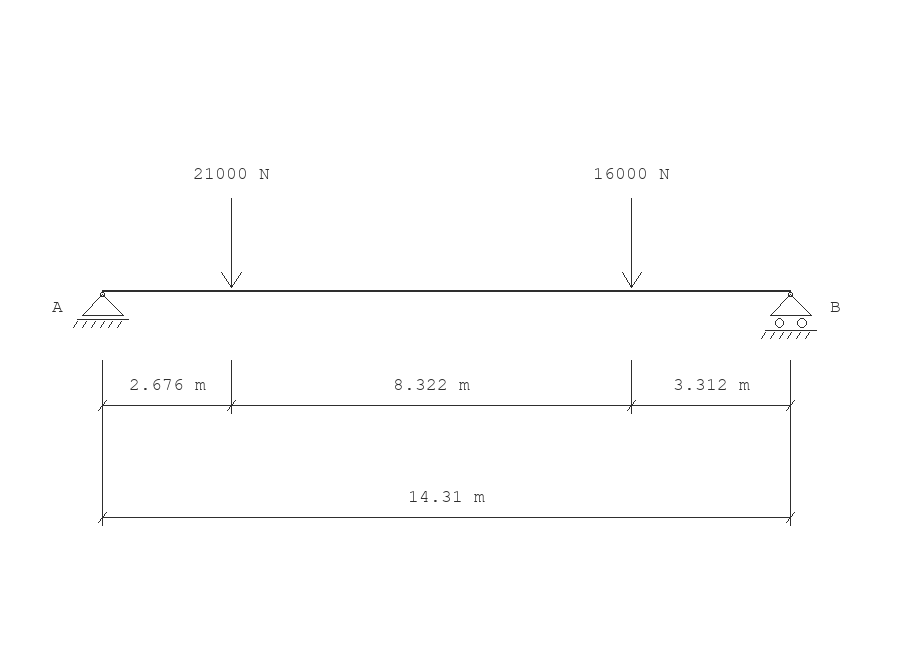pin_support: (73, 292, 129, 328)
point_load: (221, 198, 242, 288), (622, 198, 642, 288)
roller_support: (761, 292, 817, 339)
